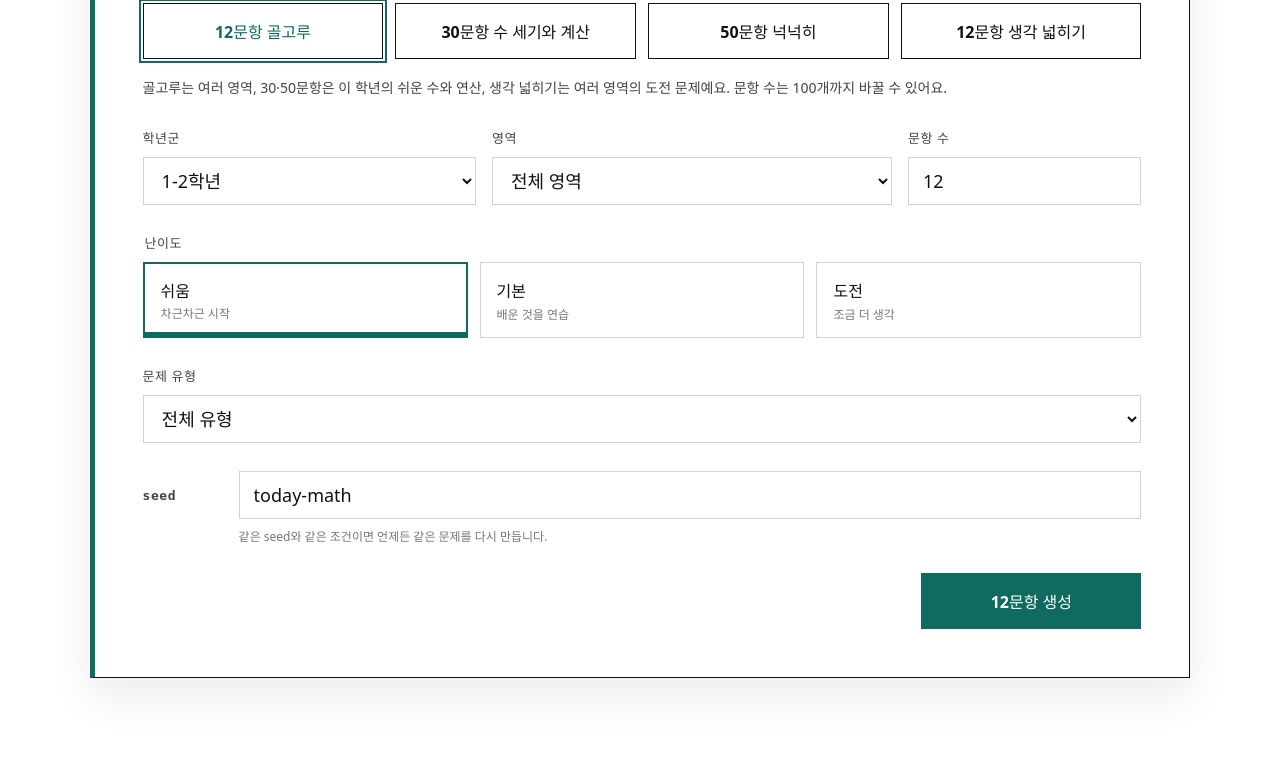
Scenario: subject worksheet experience › integrates delivered learning support without exposing hints until requested
(page scrolled)
Click the button "12문항 생성".
click(1031, 601)  # box [921,573,1141,629]
(page scrolled)
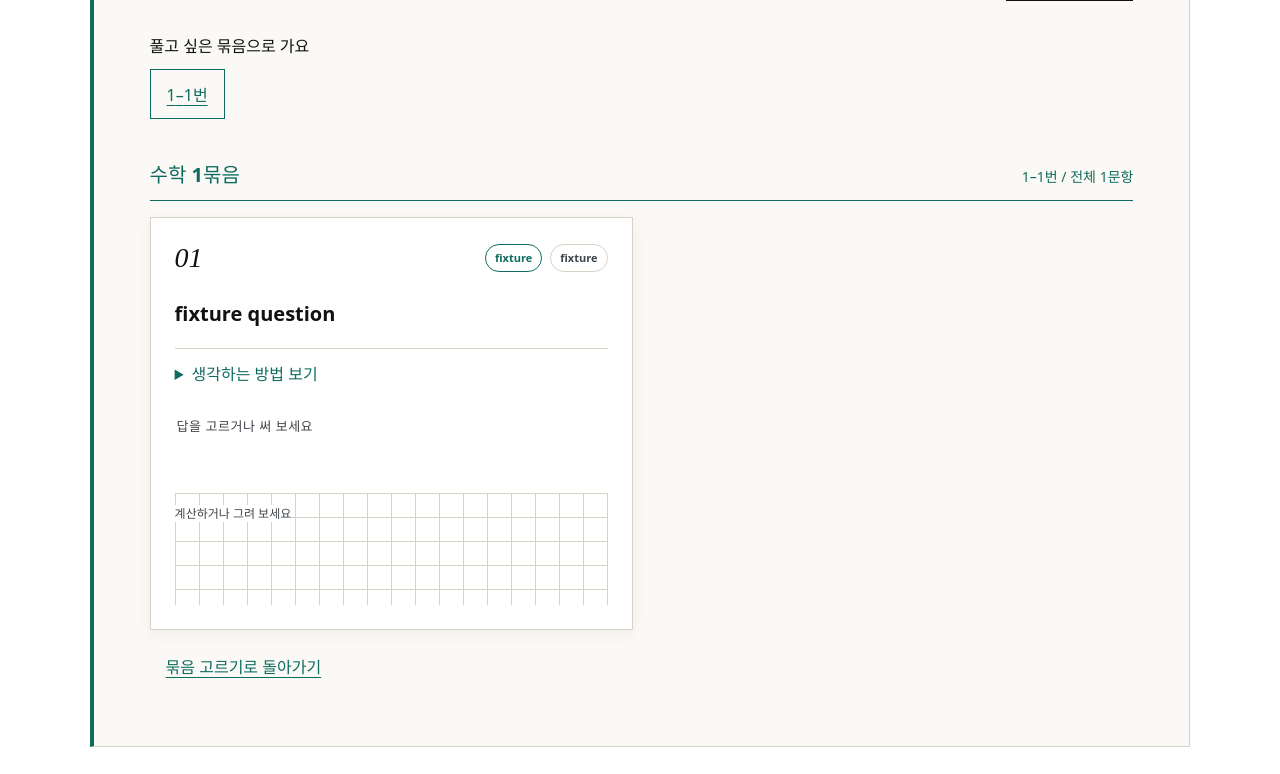
Expected: the element with class "dm-learning-help" is shown, [175,348,608,400]
Click the heading "생각하는 방법 보기".
click(255, 374)  # box [192,363,318,385]
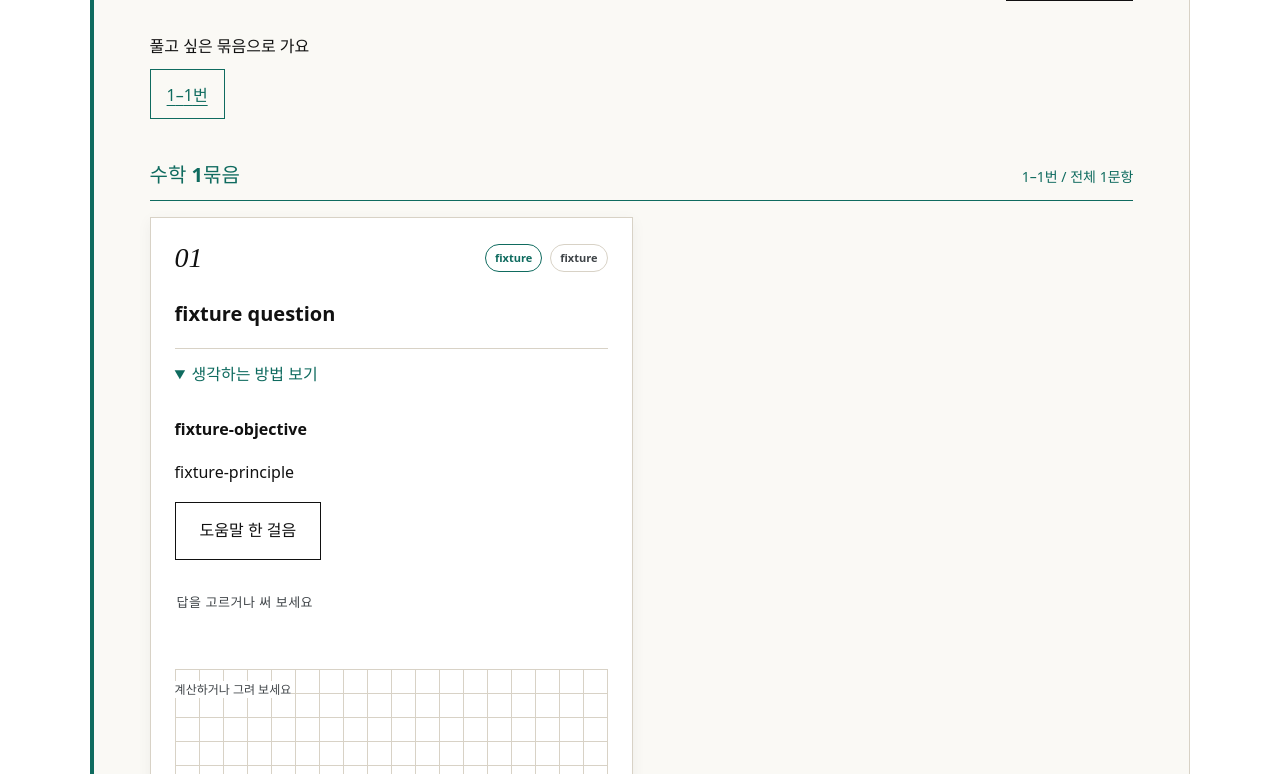
Click the button "도움말 한 걸음".
click(248, 531)  # box [175,502,321,560]
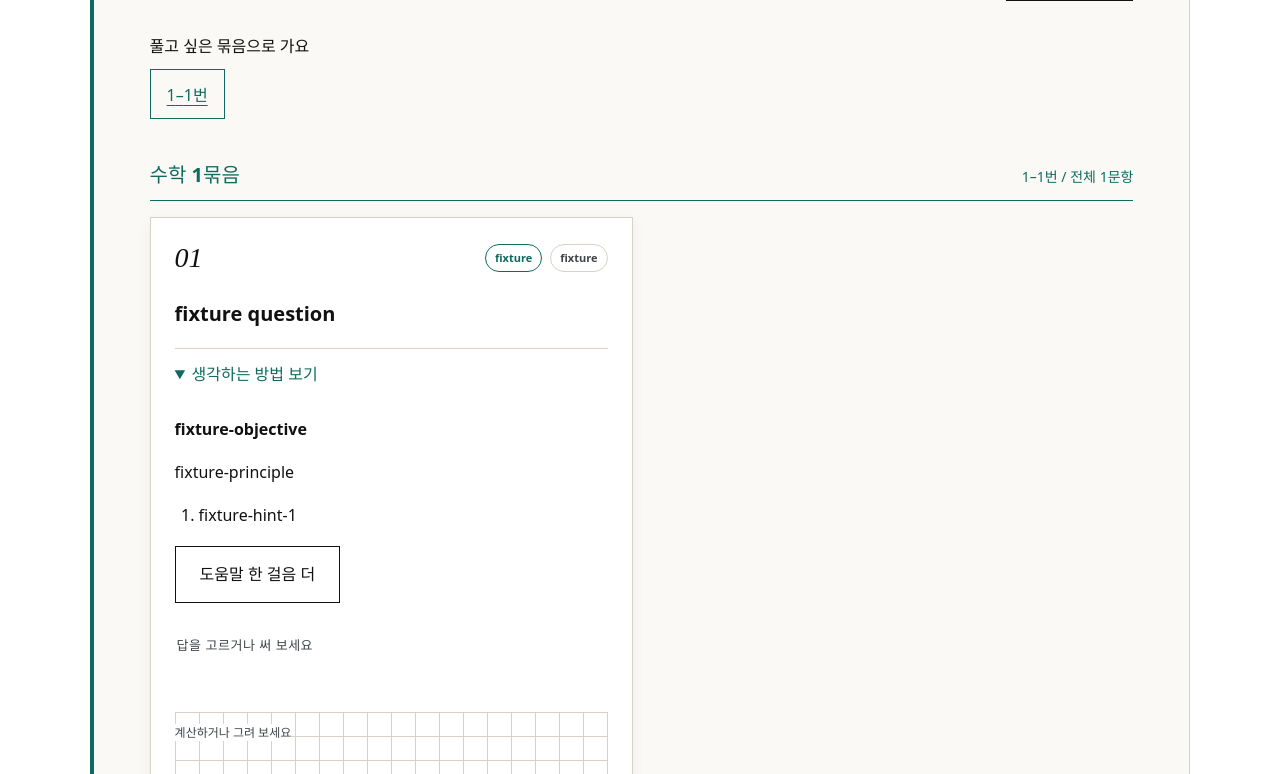
Expected: the number of list items is 1, [199,504,297,526]
Expected: the list item "fixture-hint-1" is shown, [199,504,297,526]
